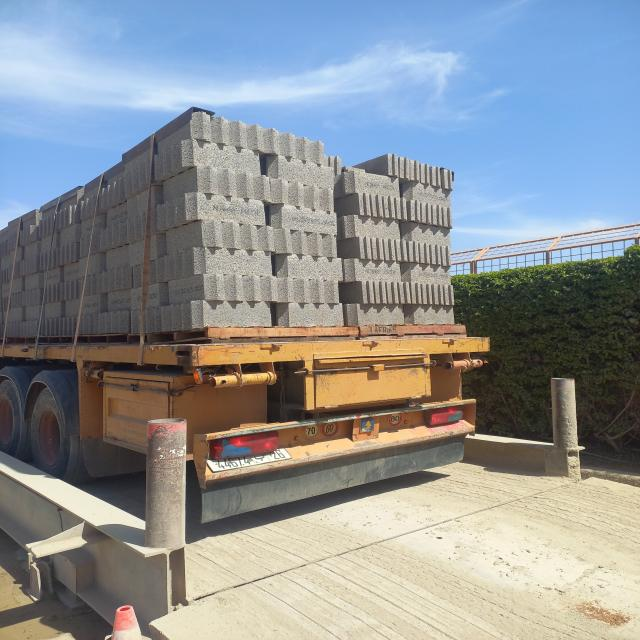bricks: (0, 108, 456, 340)
